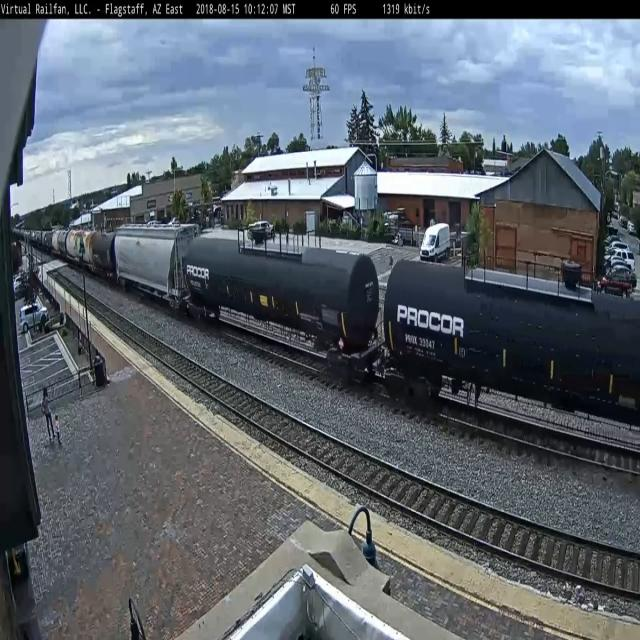hopper: (109, 215, 200, 314)
tank: (379, 249, 640, 440), (182, 221, 381, 382)
